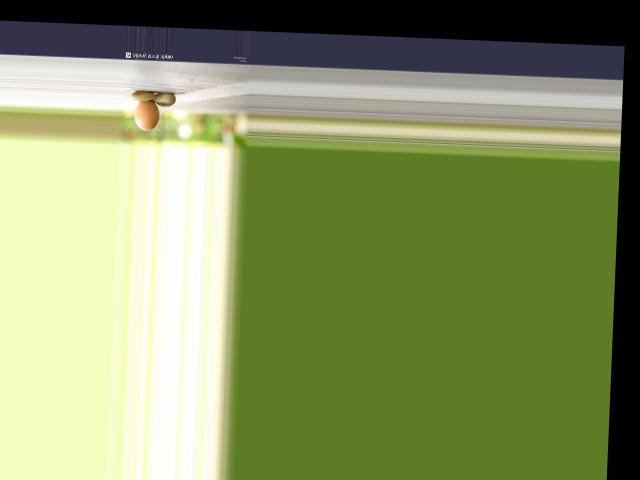egg: (134, 99, 160, 130)
